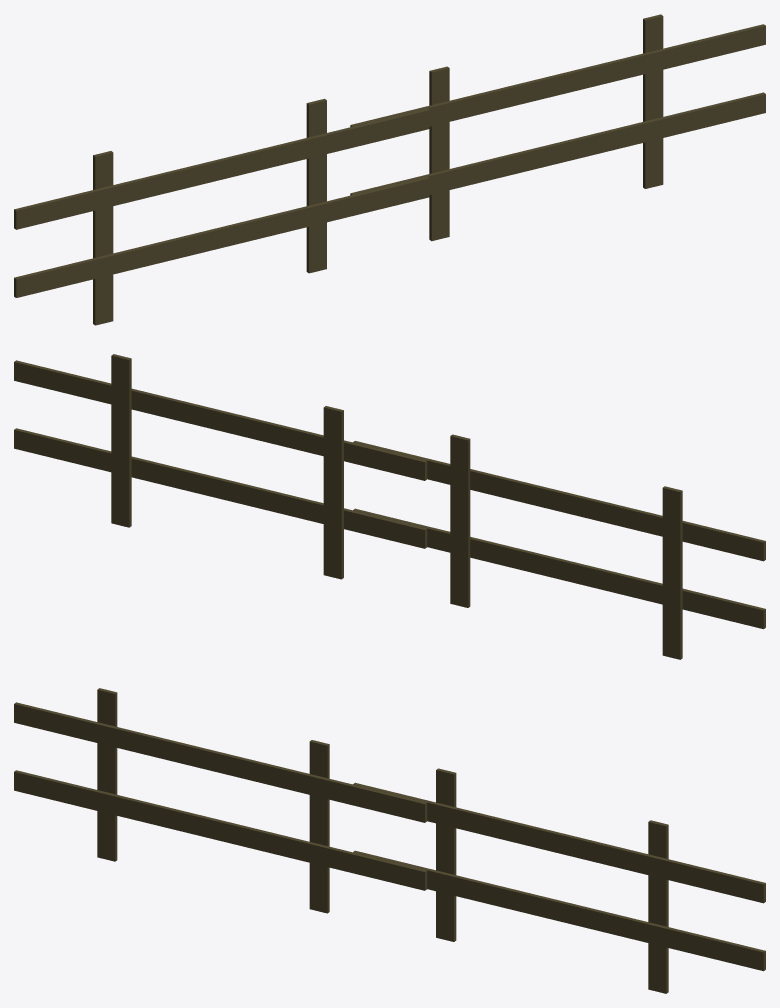
The model's file is PropsFance2.fbx.
The picture shows the model from 3 angles, top to bottom: view 1: azimuth 30°, elevation 25°; view 2: azimuth 150°, elevation 25°; view 3: azimuth 330°, elevation 25°; orthographic projection.
Parts seen in each view (by area): view 1: PropsFance2; view 2: PropsFance2; view 3: PropsFance2.
Boxes of the visible parts, x1,y1,x2,y2 form: PropsFance2: [14, 14, 765, 325]; PropsFance2: [14, 354, 765, 659]; PropsFance2: [14, 688, 765, 993].
Bounding box in the file's own units: 9.1 × 1.95 × 0.1455.
